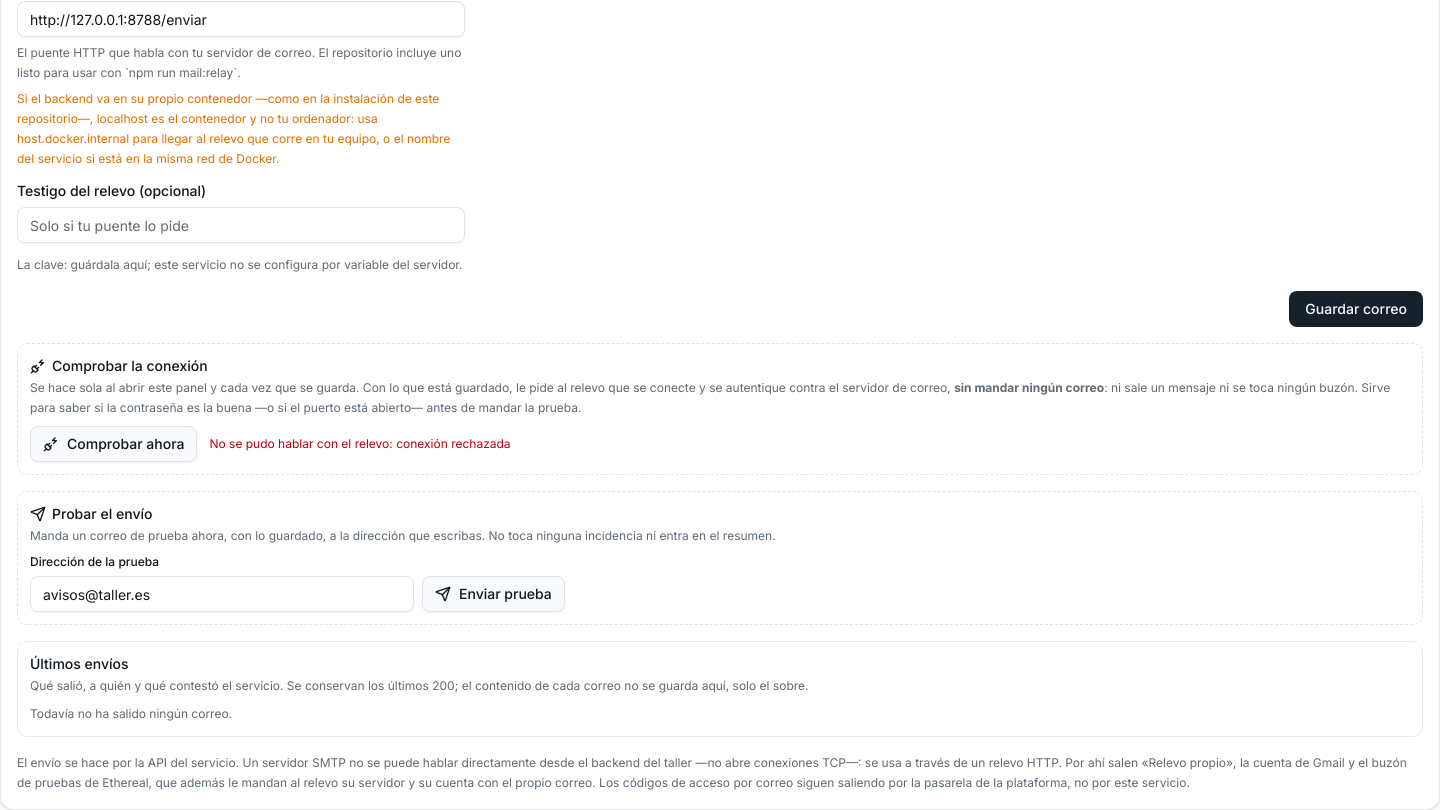
Scenario: el estado del camino de envío › si el relevo no supera la comprobación, se dice por qué y el botón la repite
(page scrolled)
Click the button "Comprobar ahora".
click(114, 444)  # box [30,426,197,462]
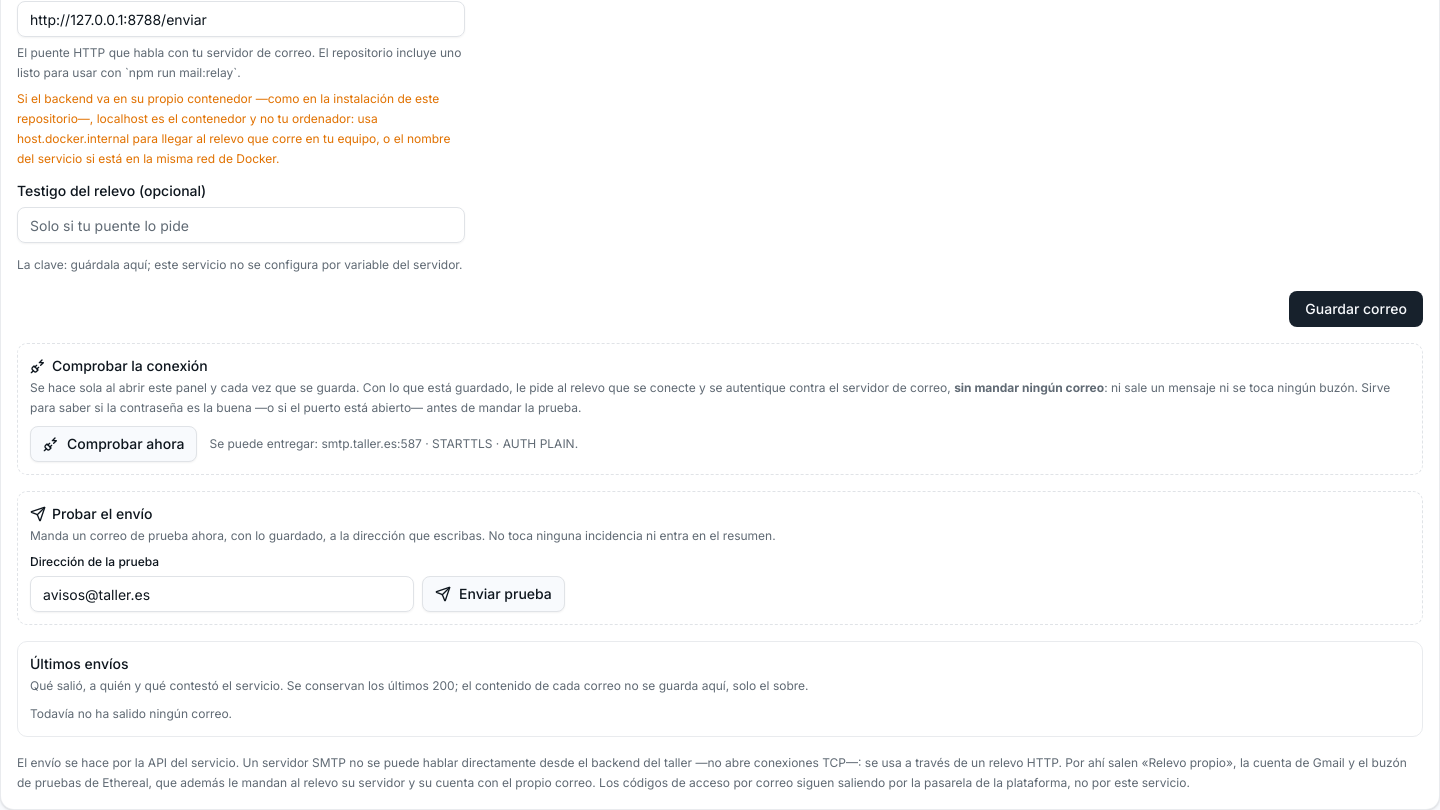
Check: the text "smtp.taller.es:587 · STARTTLS · AUTH PLAIN" is shown, box [209,436,578,451]
